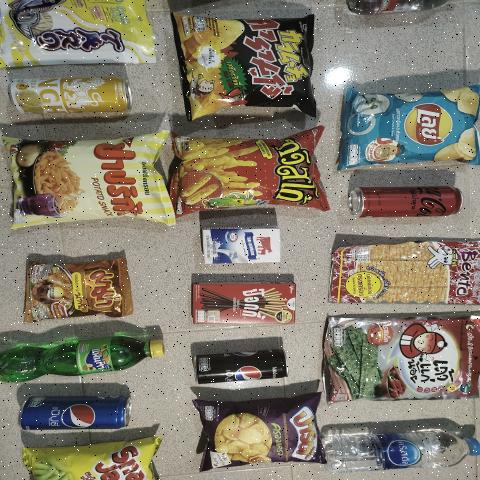bento_red: (325, 244, 480, 306)
coke_red: (346, 188, 471, 215)
crystal: (322, 420, 479, 475)
fanta_green: (0, 338, 170, 381)
karamujo: (184, 12, 311, 103)
lay_blue: (347, 91, 480, 164)
mama: (38, 262, 110, 317)
paprika: (12, 142, 162, 220)
party_purple: (218, 398, 314, 466)
pepsi_black: (188, 351, 291, 381)
pepsi_blue: (16, 396, 138, 430)
pokki: (192, 282, 296, 324)
singha_yellow: (0, 72, 141, 117)
taokaenoi: (316, 315, 479, 394)
taro_yellow: (0, 0, 150, 60)
thai_denmark: (200, 216, 282, 262)
twisco: (187, 139, 317, 208)
